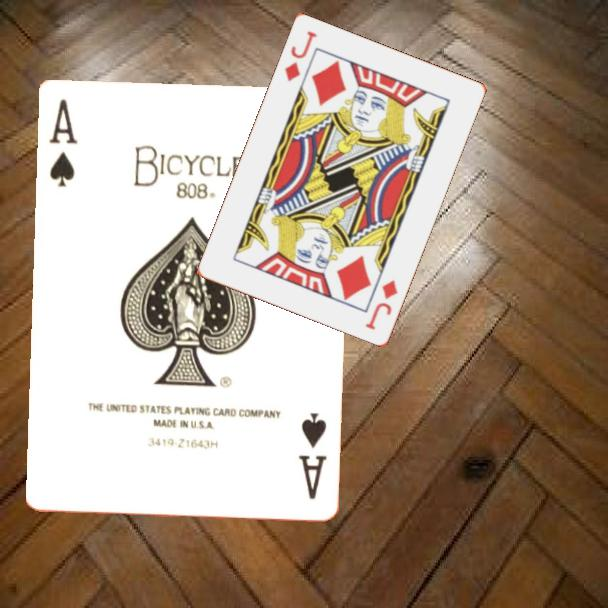d11: (281, 28, 320, 85), (362, 277, 401, 333)
s01: (45, 94, 80, 190), (294, 409, 329, 502)
